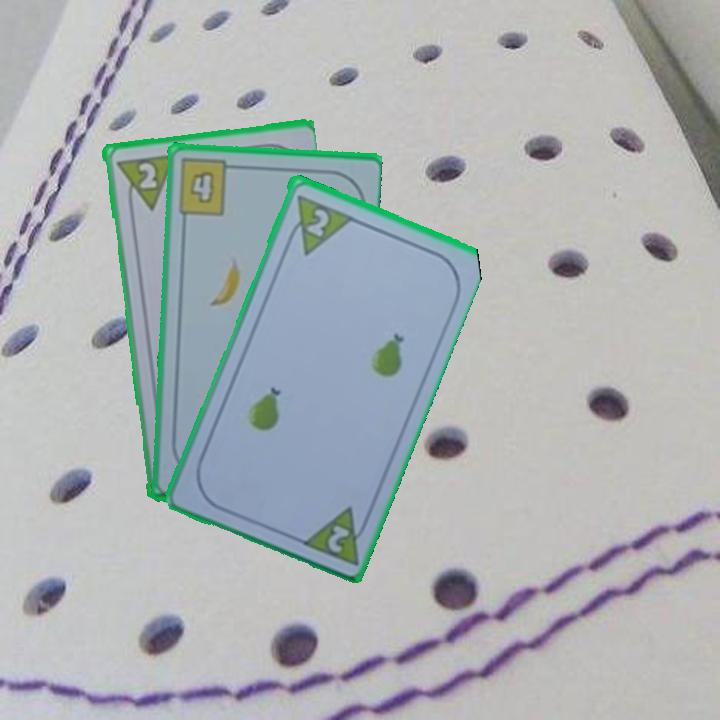2p: (281, 190, 354, 258), (323, 520, 352, 556), (134, 158, 160, 191)
4b: (174, 155, 240, 218)
